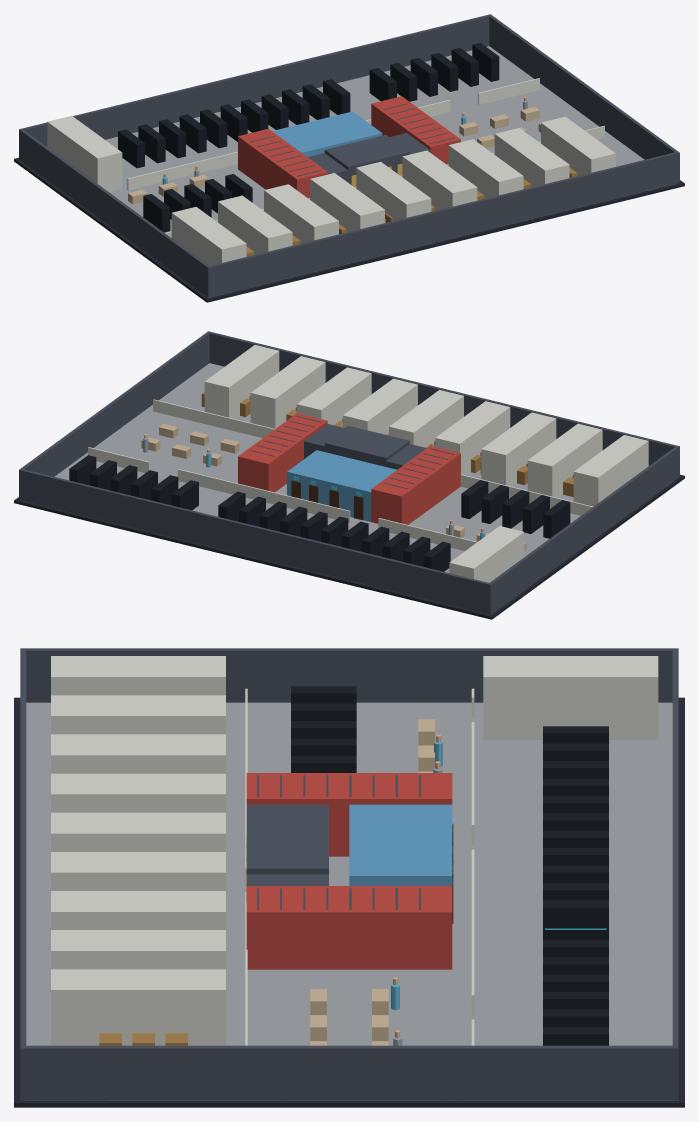
3 views of the same model, one above another, from view 1: azimuth 30°, elevation 25°; view 2: azimuth 150°, elevation 25°; view 3: azimuth 270°, elevation 25° (orthographic). The views are drawn at different scales.
Visible parts, largest first — view 1: LB3_core, LB3_truck, LB3_rack, LB3_floor_tile, LB3_stair, LB3_slab, LB3_wall, LB3_wash, LB3_desk, LB3_pallet; view 2: LB3_core, LB3_truck, LB3_rack, LB3_floor_tile, LB3_stair, LB3_wall, LB3_wash, LB3_slab, LB3_desk, LB3_pallet, LB3_door_closed; view 3: LB3_floor_tile, LB3_truck, LB3_core, LB3_rack, LB3_stair, LB3_slab, LB3_wash, LB3_desk, LB3_wall, LB3_pallet.
Part boxes in pixels (x1,y1,x2,y2): LB3_core: (19,14,679,297); LB3_truck: (47,115,615,265); LB3_rack: (118,43,499,232); LB3_floor_tile: (45,46,673,297); LB3_stair: (238,96,460,198); LB3_slab: (14,157,684,302); LB3_wall: (127,78,604,237); LB3_wash: (272,111,382,156); LB3_desk: (128,107,540,204); LB3_pallet: (246,168,577,256); LB3_core: (19,331,679,614); LB3_truck: (204,345,648,582); LB3_rack: (69,455,570,571); LB3_floor_tile: (31,363,678,614); LB3_stair: (238,413,460,524); LB3_wall: (88,399,592,550); LB3_wash: (287,450,396,521); LB3_slab: (14,474,684,619); LB3_desk: (141,424,526,551); LB3_pallet: (201,392,573,496); LB3_door_closed: (291,480,363,520); LB3_floor_tile: (26,702,678,1100); LB3_truck: (51,656,658,1045); LB3_core: (20,648,678,1100); LB3_rack: (291,686,608,1045); LB3_stair: (246,773,452,969); LB3_slab: (14,697,684,1107); LB3_wash: (349,804,452,885); LB3_desk: (310,719,434,1045); LB3_wall: (245,688,474,1045); LB3_pallet: (99,1033,187,1045).
Size of the model in its own units: 46.6 by 3.65 by 32.6.
